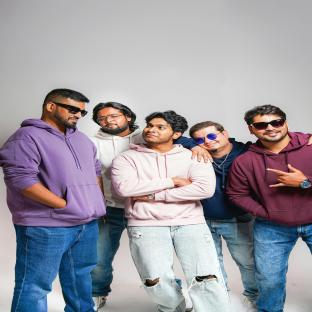Human: (111, 111, 231, 312), (0, 89, 106, 312), (226, 105, 312, 312), (176, 121, 259, 312), (90, 102, 145, 309)
